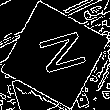N_W: (25, 29, 85, 81)
